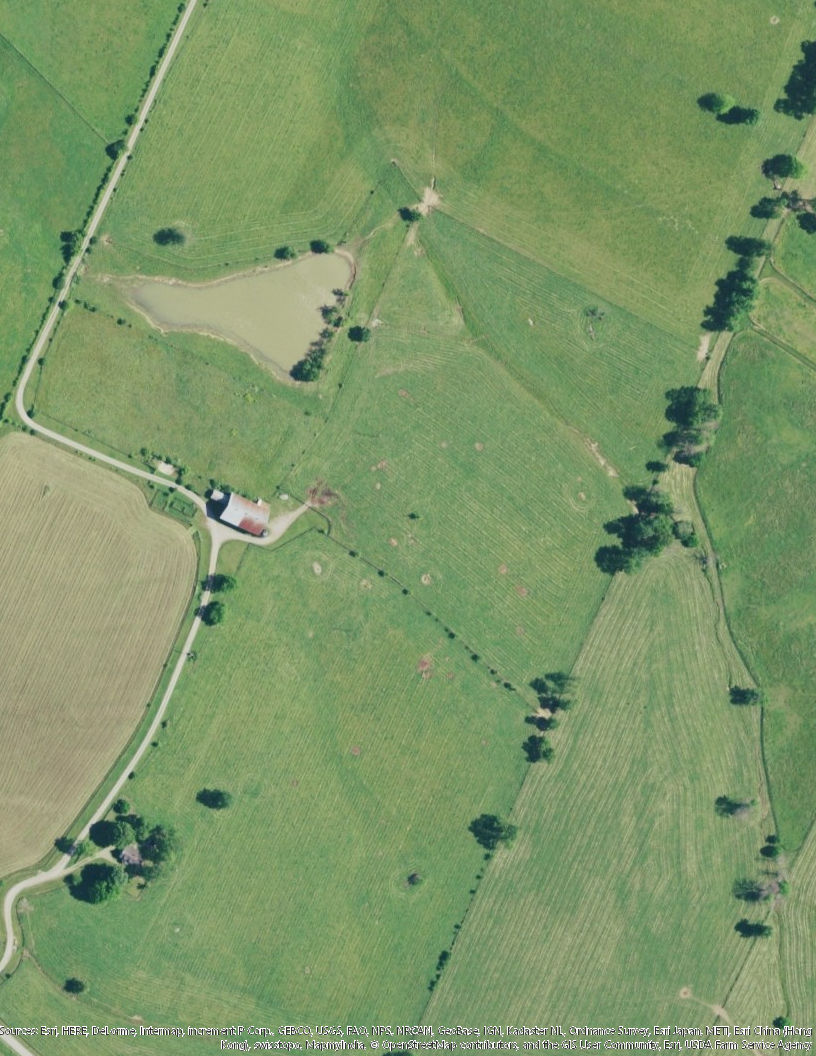cafo: (199, 483, 275, 544)
